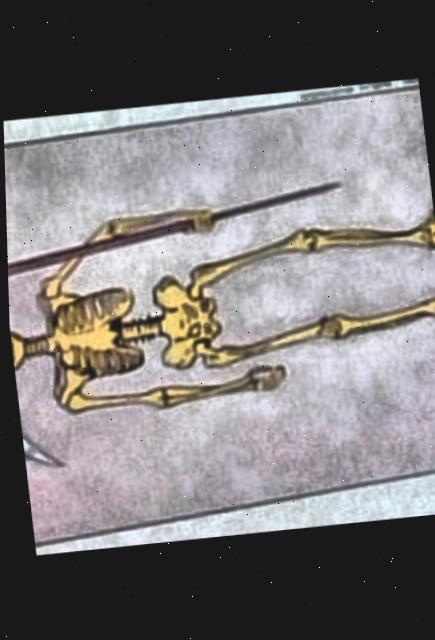La Muerte: (3, 86, 435, 541)
